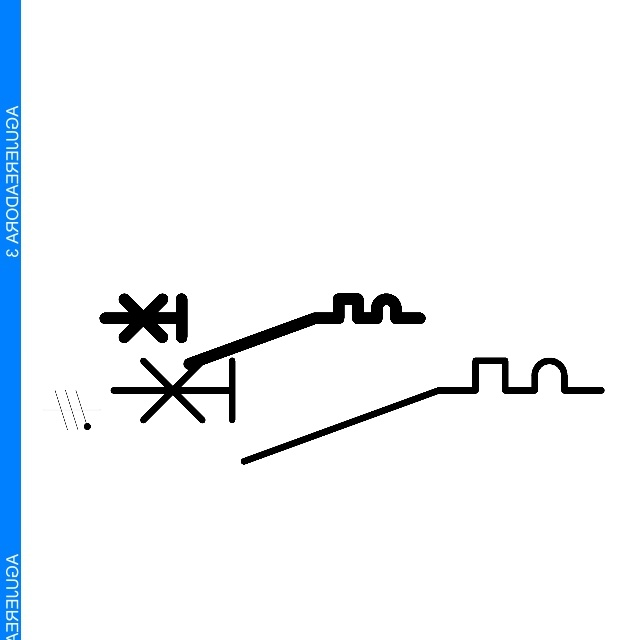interruptor_termomagnetico: (101, 348, 614, 473), (97, 291, 428, 372)
